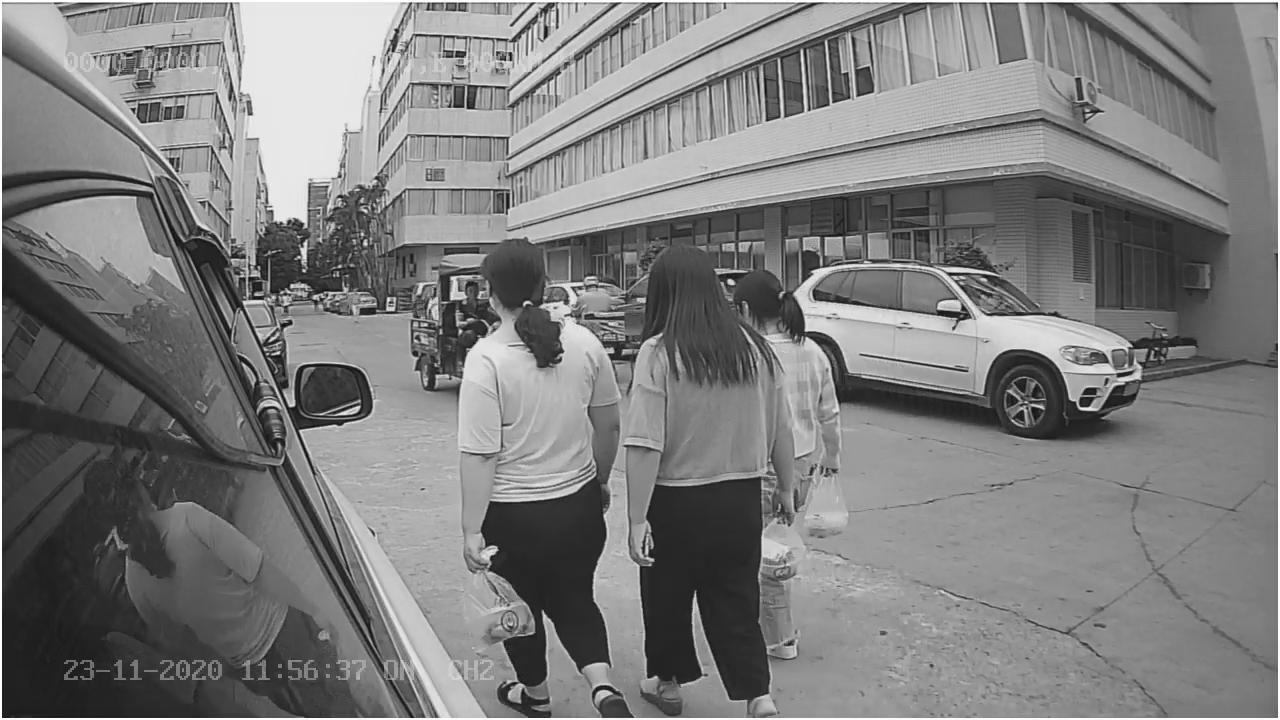person: (447, 233, 625, 720), (623, 244, 786, 715)
